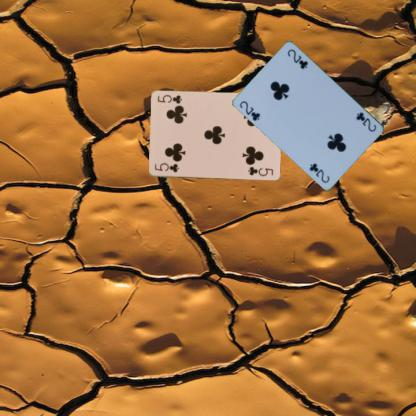2c: (237, 98, 262, 122), (353, 110, 378, 133)
5c: (152, 161, 180, 173)
